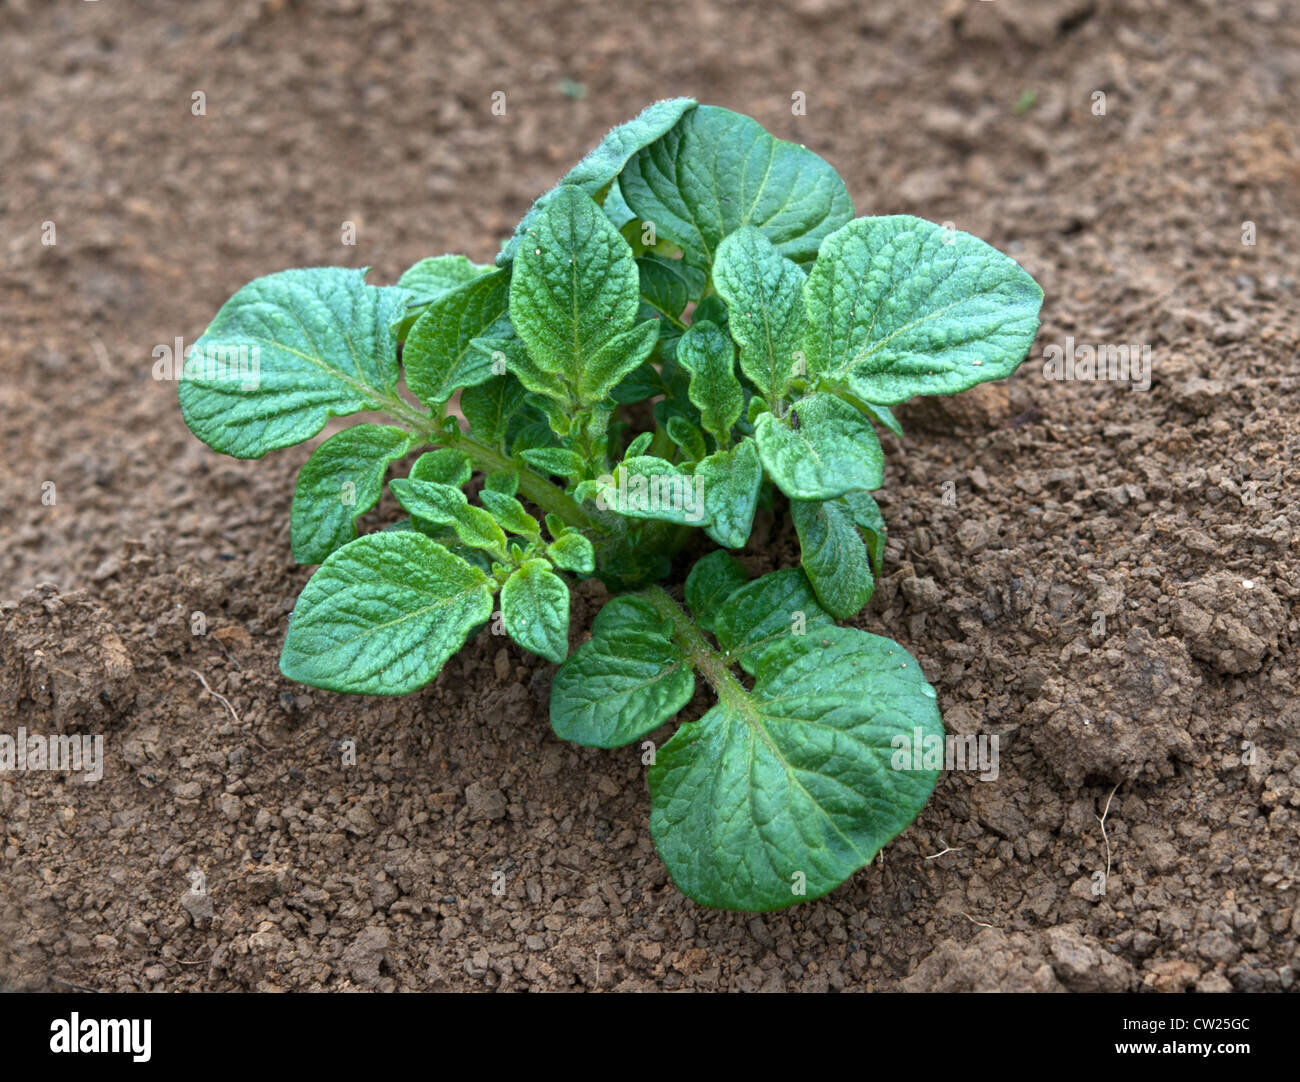potato_plant: (174, 87, 1060, 916)
